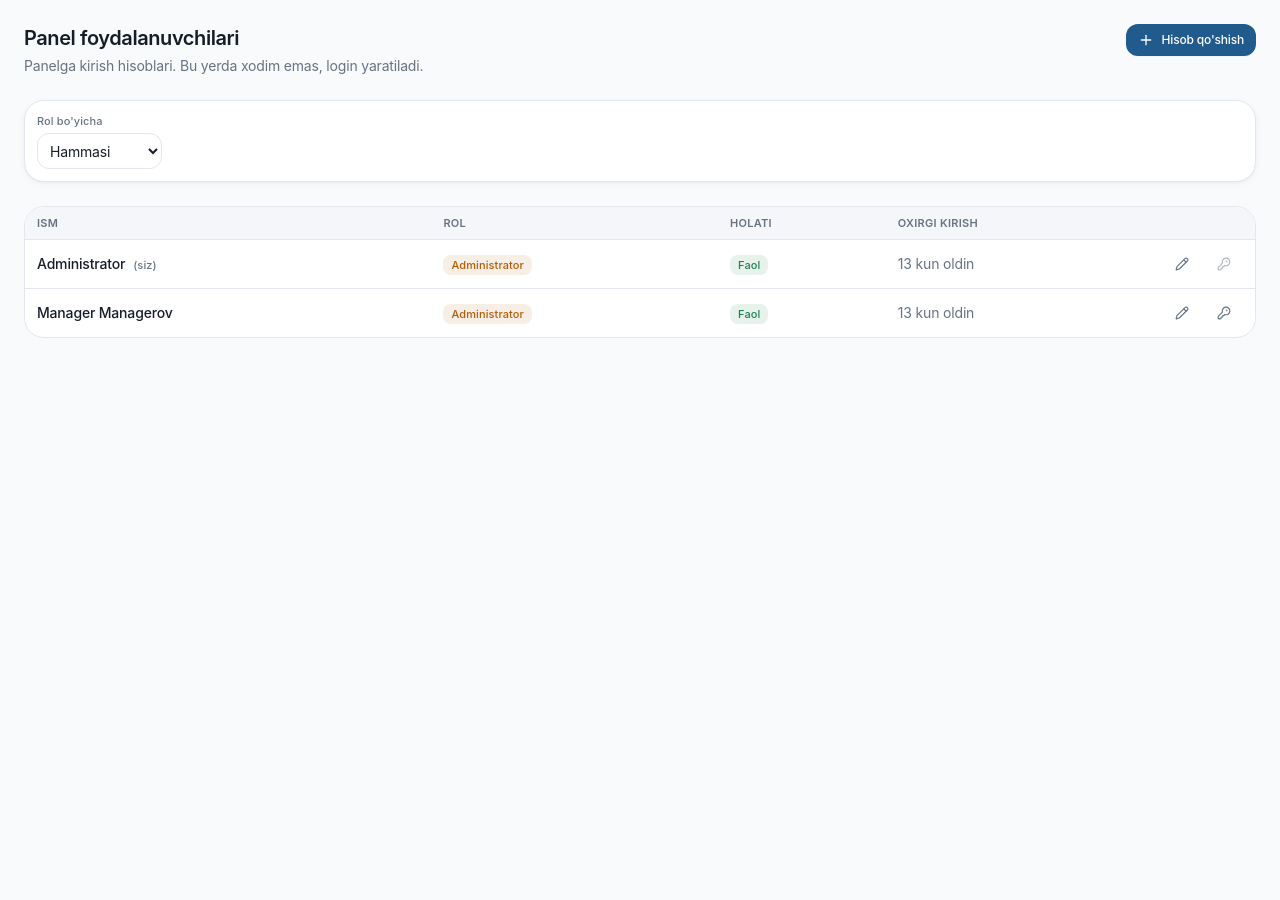
Test case: the two guards › does not offer to demote or deactivate yourself
Click the button named "Tahrirlash" in the row of "(siz)": (1182, 264) 1163,248 -> 1201,280
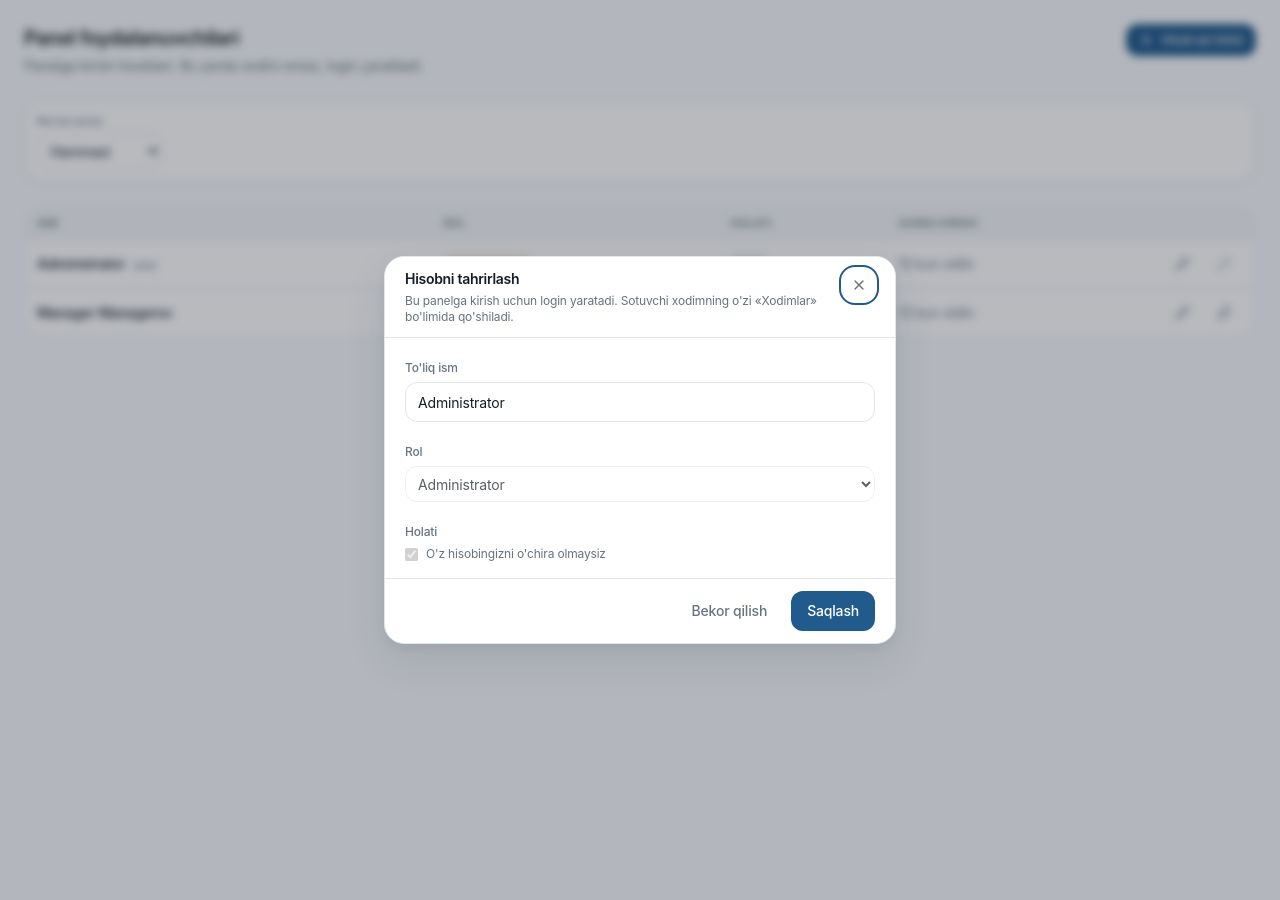
Check: the dropdown labelled "Rol" is disabled, box 405,466 -> 875,502
Check: the text "O'z hisobingizni o'chira olmaysiz" is shown, box 405,546 -> 606,561
